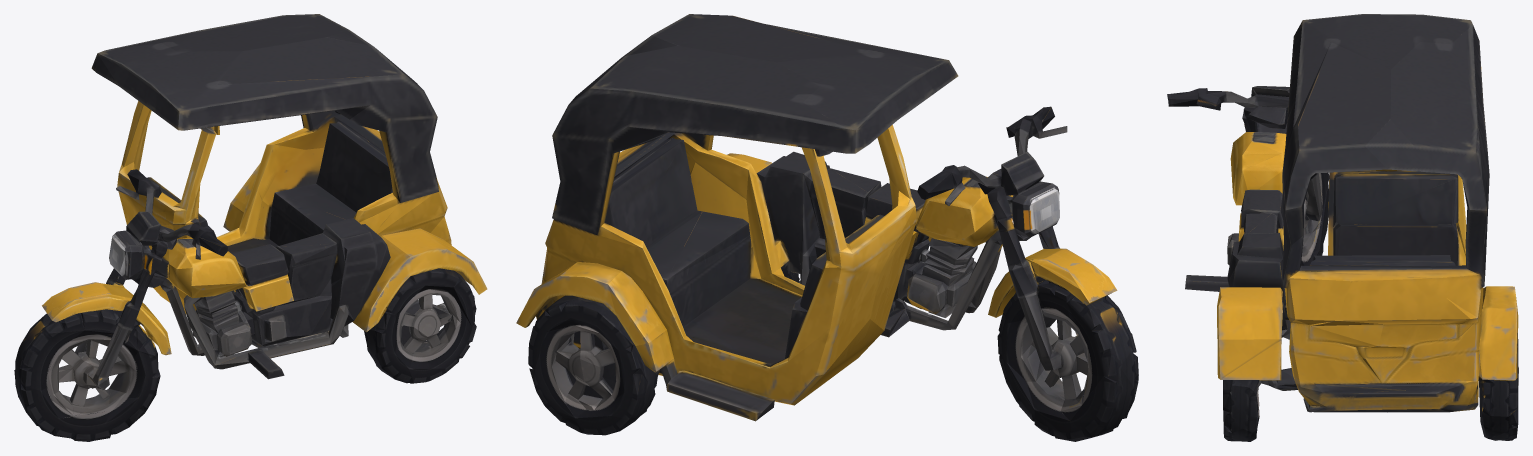
File: filipino_tricycle_5000tri.glb
3 renders of one model, left to right at view 1: azimuth 30°, elevation 25°; view 2: azimuth 150°, elevation 25°; view 3: azimuth 270°, elevation 25°, orthographic. The views are drawn at different scales.
Visible parts, largest first — view 1: output_unwrapped; view 2: output_unwrapped; view 3: output_unwrapped.
Part boxes in pixels (x1,y1,x2,y2): output_unwrapped: (14, 14, 487, 441); output_unwrapped: (516, 14, 1138, 441); output_unwrapped: (1167, 14, 1518, 441).
Bounding box in the file's own units: 1.82 × 1.21 × 1.22.
1 material, 1 textured.
